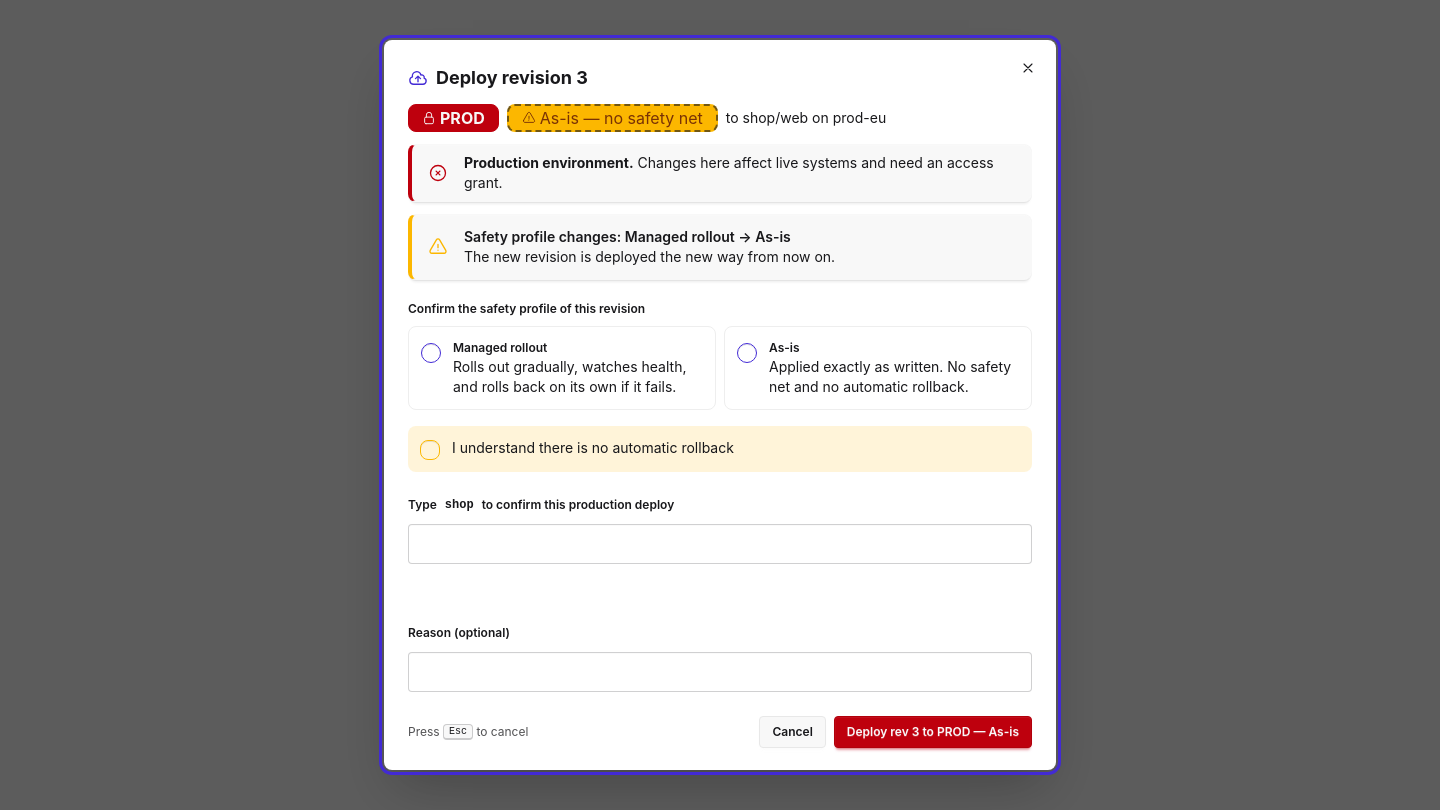
Test: UI-013/014: prod deploy needs the typed slug; as-is needs the checkbox; body carries the confirms and CSRF (UI-002)
Later steps or results of the test are not shown.
Check: the text "Safety profile changes: Managed rollout → As-is" is shown, box left=464, top=227, right=835, bottom=247
Click the button "Deploy rev 3 to PROD — As-is". click: (933, 732)
box: left=834, top=716, right=1032, bottom=748
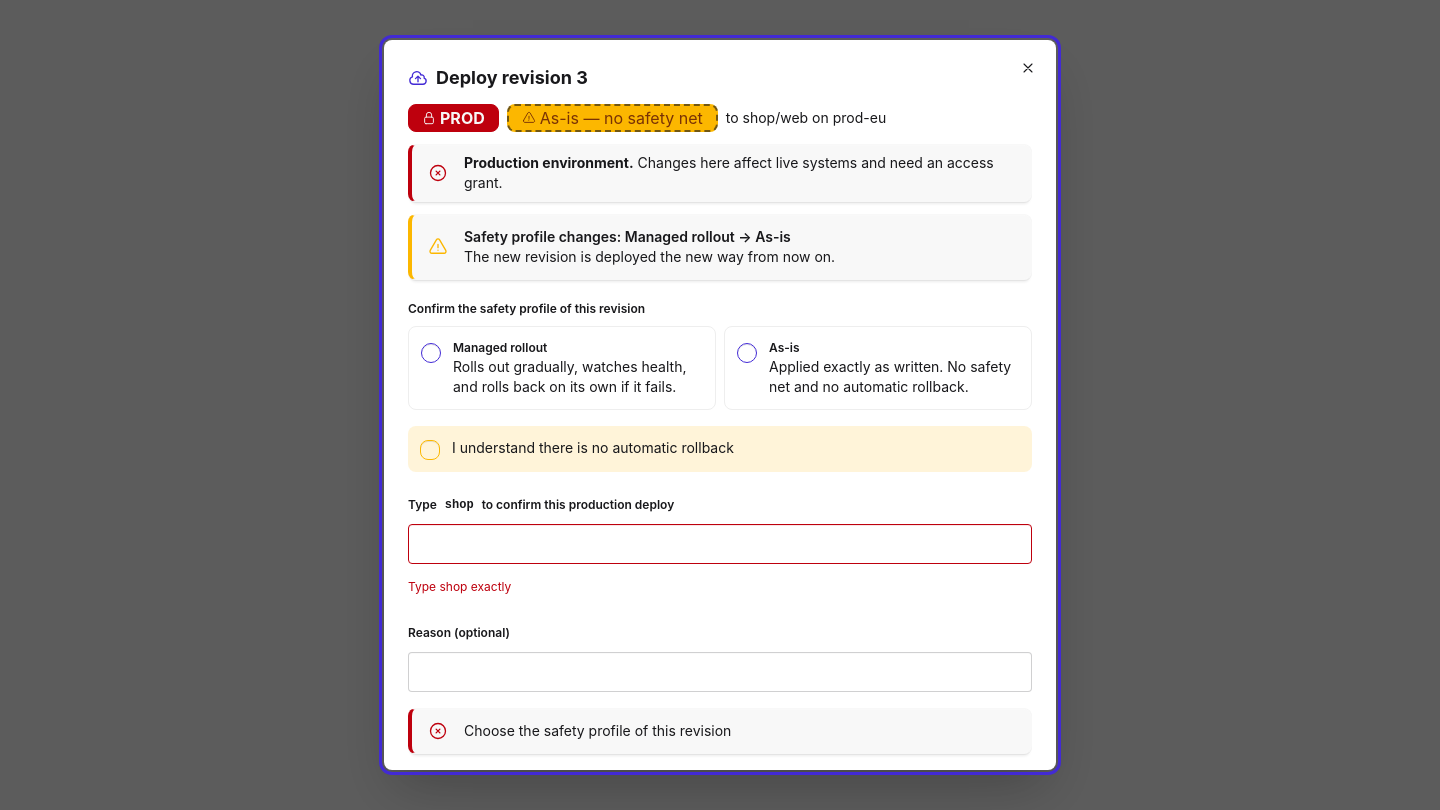
Check: the message "Choose the safety profile of this revision" is shown, box left=408, top=708, right=1032, bottom=754
